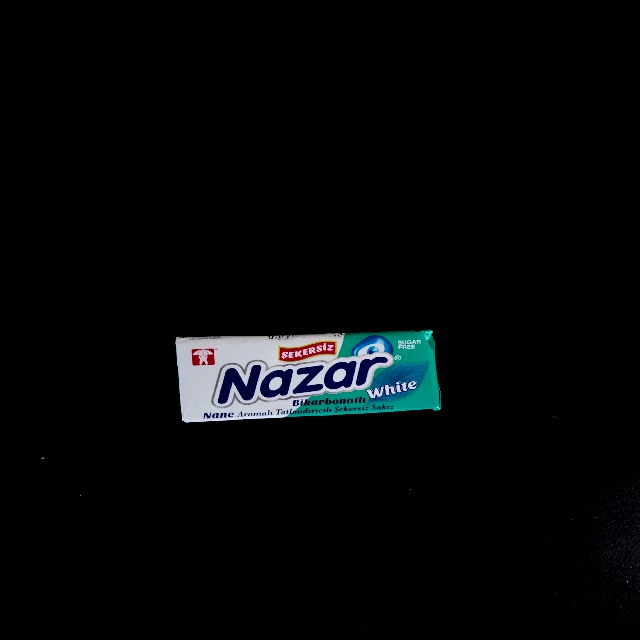nazar_naneli_sakiz: (176, 330, 440, 424)
